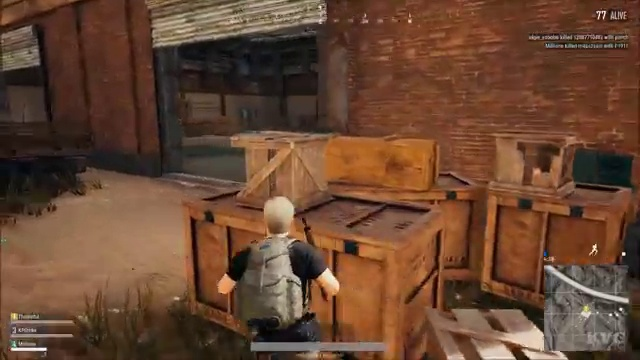Player: (194, 194, 359, 321)
